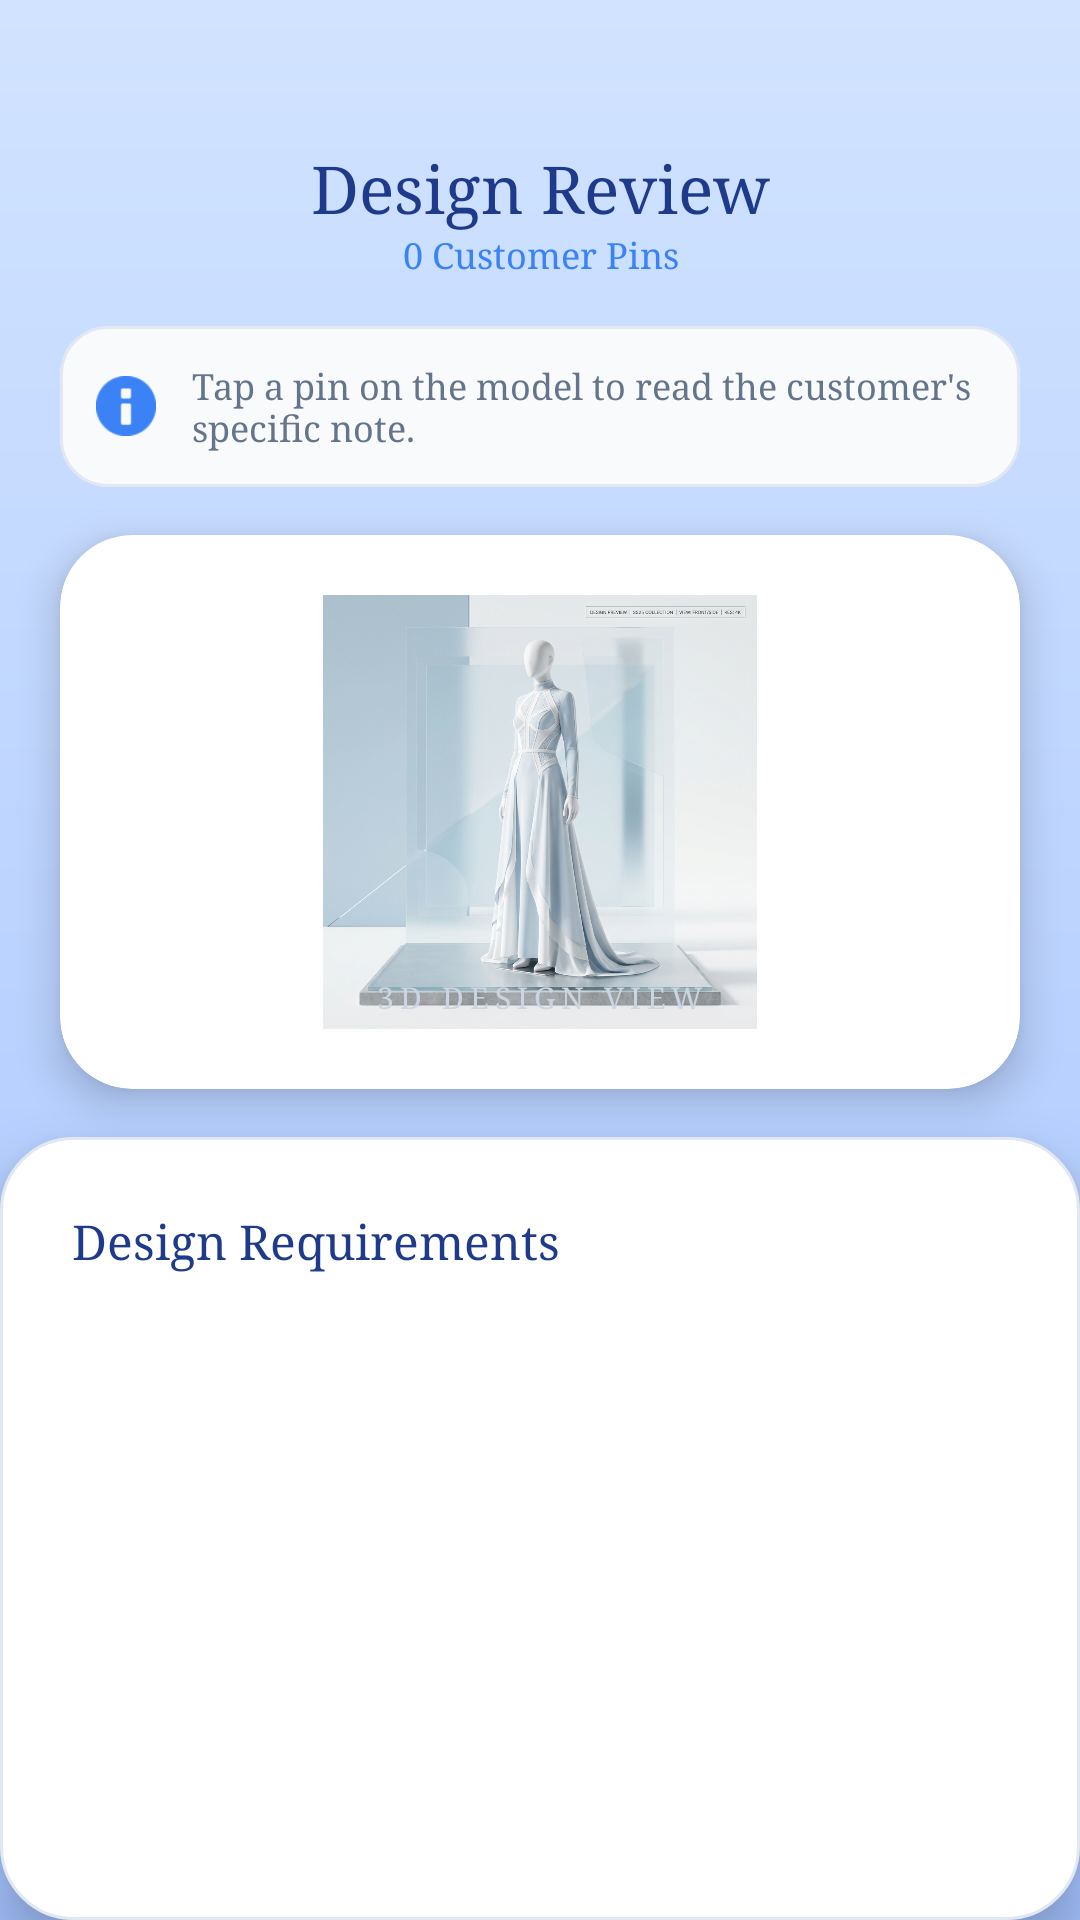

Screen size 1080x1920. Icon name, then its center in pixels as [x,y]:
info: [126,406]
